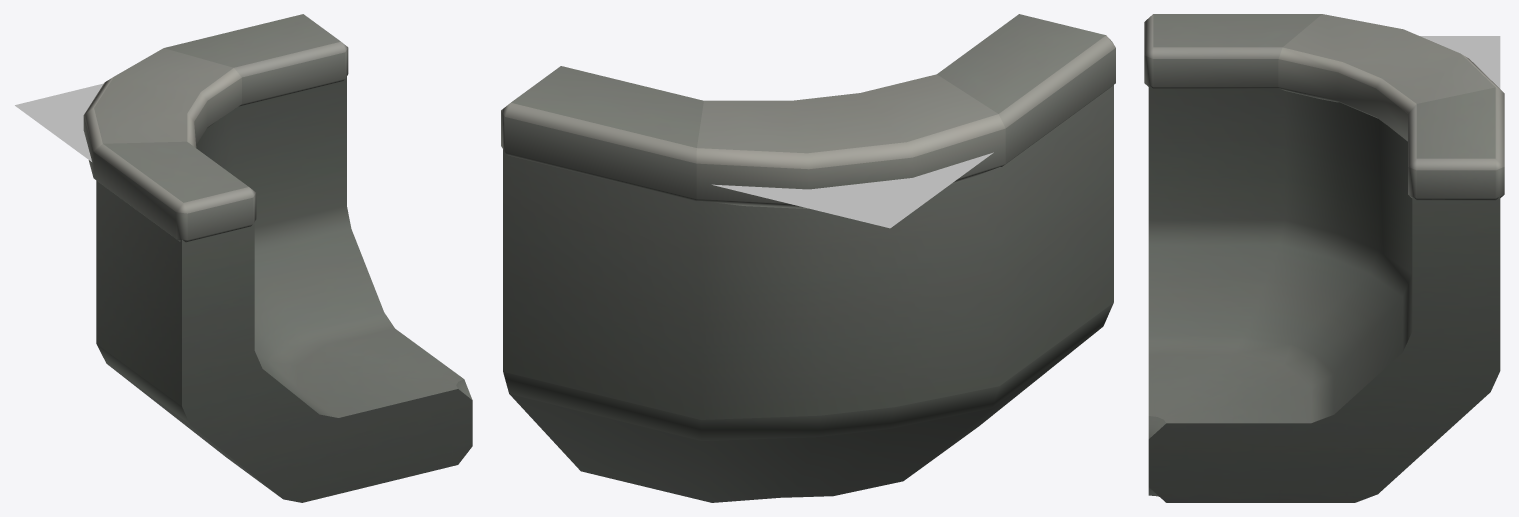
The model's file is canal_wall_section_corner_concave.fbx.
3 renders of one model, left to right at view 1: azimuth 30°, elevation 25°; view 2: azimuth 150°, elevation 25°; view 3: azimuth 270°, elevation 25°, orthographic. The views are drawn at different scales.
Parts seen in each view (by area): view 1: canal_wall_section_corner_concave, sidewalk_canal_section_corner_concave; view 2: canal_wall_section_corner_concave, sidewalk_canal_section_corner_concave; view 3: canal_wall_section_corner_concave, sidewalk_canal_section_corner_concave.
Boxes of the visible parts, x1,y1,x2,y2 form: canal_wall_section_corner_concave: (83, 14, 472, 502); sidewalk_canal_section_corner_concave: (15, 83, 103, 161); canal_wall_section_corner_concave: (501, 14, 1115, 502); sidewalk_canal_section_corner_concave: (712, 152, 993, 228); canal_wall_section_corner_concave: (1144, 14, 1504, 502); sidewalk_canal_section_corner_concave: (1420, 36, 1500, 88).
Bounding box in the file's own units: 410 × 430 × 410.
